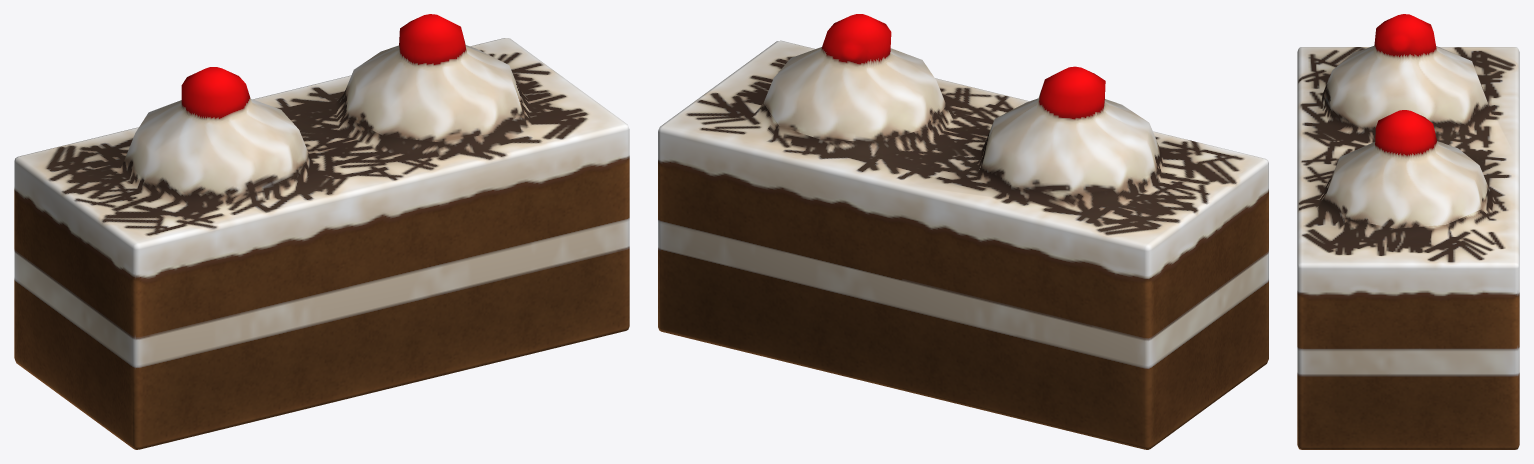
Rendered from BuffetDesserts01_9.FBX.
3 views of the same model, side by side, from view 1: azimuth 30°, elevation 25°; view 2: azimuth 150°, elevation 25°; view 3: azimuth 270°, elevation 25° (orthographic). The views are drawn at different scales.
Visible parts, largest first — view 1: BuffetDesserts01_9; view 2: BuffetDesserts01_9; view 3: BuffetDesserts01_9.
Boxes of the visible parts, x1,y1,x2,y2 form: BuffetDesserts01_9: (14, 14, 629, 449); BuffetDesserts01_9: (658, 14, 1268, 449); BuffetDesserts01_9: (1297, 14, 1519, 449).
Size of what is drawn, in the model's own units: 0.17 by 0.0996 by 0.0728.
